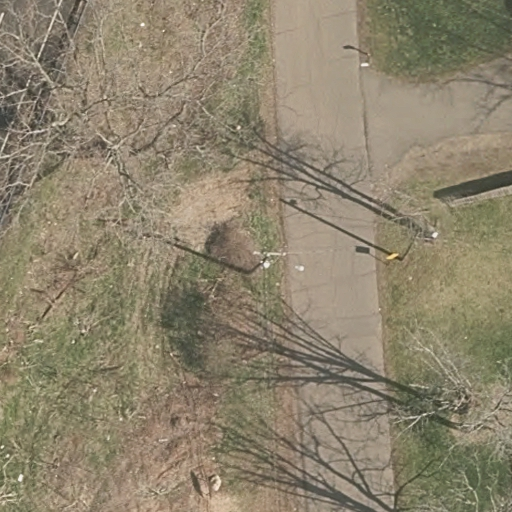DT: (243, 243, 290, 282)
